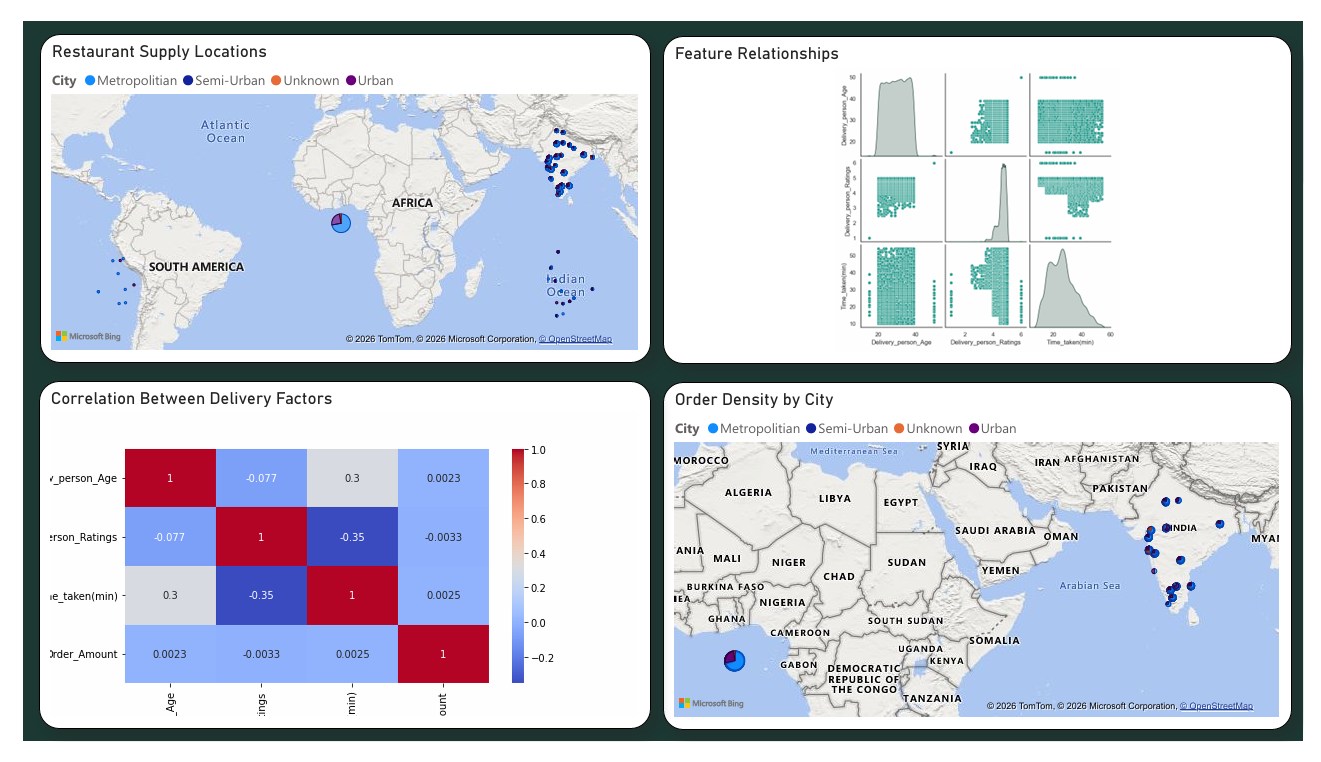

What the dashboard file says about the page in this screenshot:
{"tool":"powerbi","page":{"name":"Geospatial & Data Relationships","canvas":[1280,720],"ordinal":4},"visuals":[{"type":"map","title":"Restaurant Supply Locations","fields":{"Y":["orders.Restaurant_latitude"],"X":["orders.Restaurant_longitude"],"Series":["orders.City"],"Size":["CountNonNull(orders.ID)"]},"box":[15.7,12.1,611.7,329.4],"z":0},{"type":"map","title":"Order Density by City","fields":{"Y":["orders.Delivery_location_latitude"],"X":["orders.Delivery_location_longitude"],"Series":["orders.City"],"Size":["orders.Total_Orders"]},"box":[639.5,359.5,628.5,348.5],"z":1000},{"type":"pythonVisual","title":"Feature Relationships","fields":{"Values":["orders.Delivery_person_Ratings","orders.Delivery_person_Age","orders.Time_taken(min)","orders.Order_Amount"]},"box":[639.5,13.7,628.5,328],"z":2000},{"type":"pythonVisual","title":"Correlation Between Delivery Factors","fields":{"Values":["orders.Delivery_person_Age","orders.Delivery_person_Ratings","orders.Time_taken(min)","orders.Order_Amount"]},"box":[15.4,359.5,611.5,348],"z":3000}]}

Visuals, with their boxes in screenshot pixels (x1, y1, x2, y2), scaled from the page's 1280x720 canvas onto the 1321x762 screenshot:
"Restaurant Supply Locations" map: (16, 13, 647, 361)
"Order Density by City" map: (660, 380, 1309, 749)
"Feature Relationships" pythonVisual: (660, 14, 1309, 362)
"Correlation Between Delivery Factors" pythonVisual: (16, 380, 647, 749)
